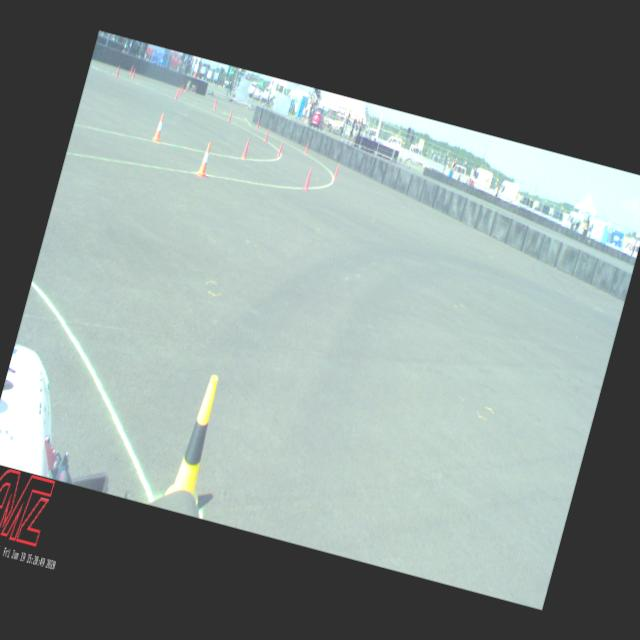orange_cone: (196, 141, 214, 178), (152, 112, 167, 142)
yellow_cone: (163, 371, 230, 507)
